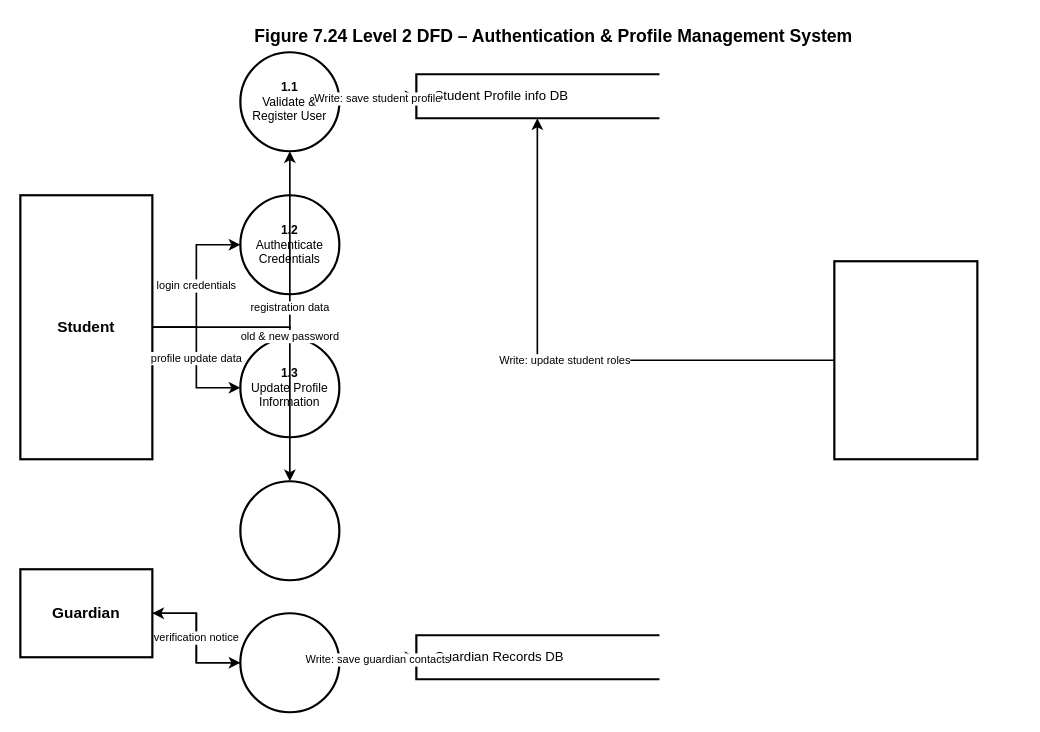
The diagram is 1040 pixels wide and 732 high, and some of its shapes have lost their labels. The shapes that lost their labels are listed below. From the top down, each one's centre as x and y in pixels, then its label:
At (x=905, y=360): "Administrator".
At (x=289, y=530): "1.4 Change Password".
At (x=289, y=662): "1.5 Link Guardian Contacts".
